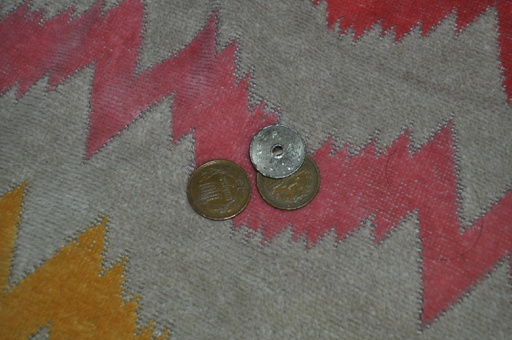10yen: (187, 160, 250, 221), (256, 154, 320, 210)
50yen: (249, 125, 306, 179)
